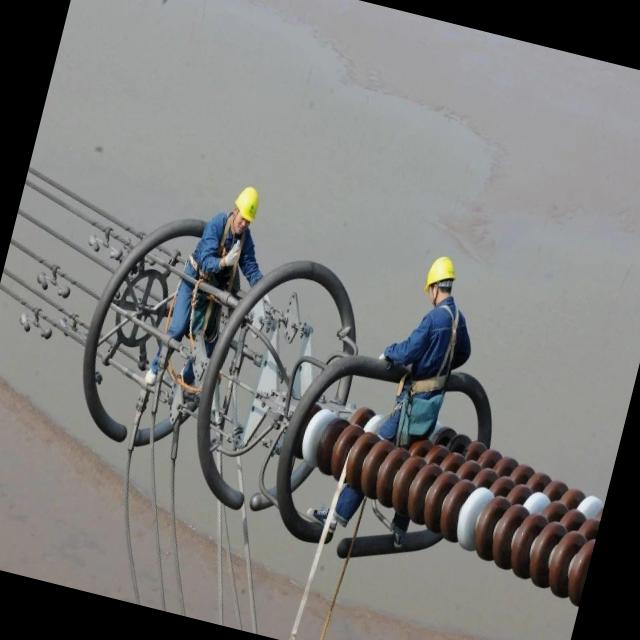helmet: (424, 252, 463, 292), (231, 180, 264, 219)
